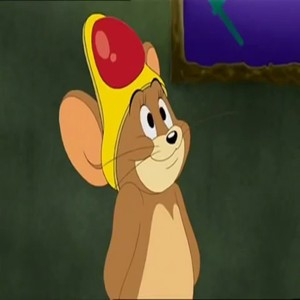Jerry: (60, 15, 197, 296)
